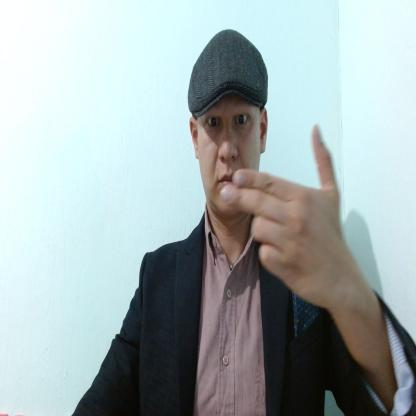H: (221, 124, 342, 308)
